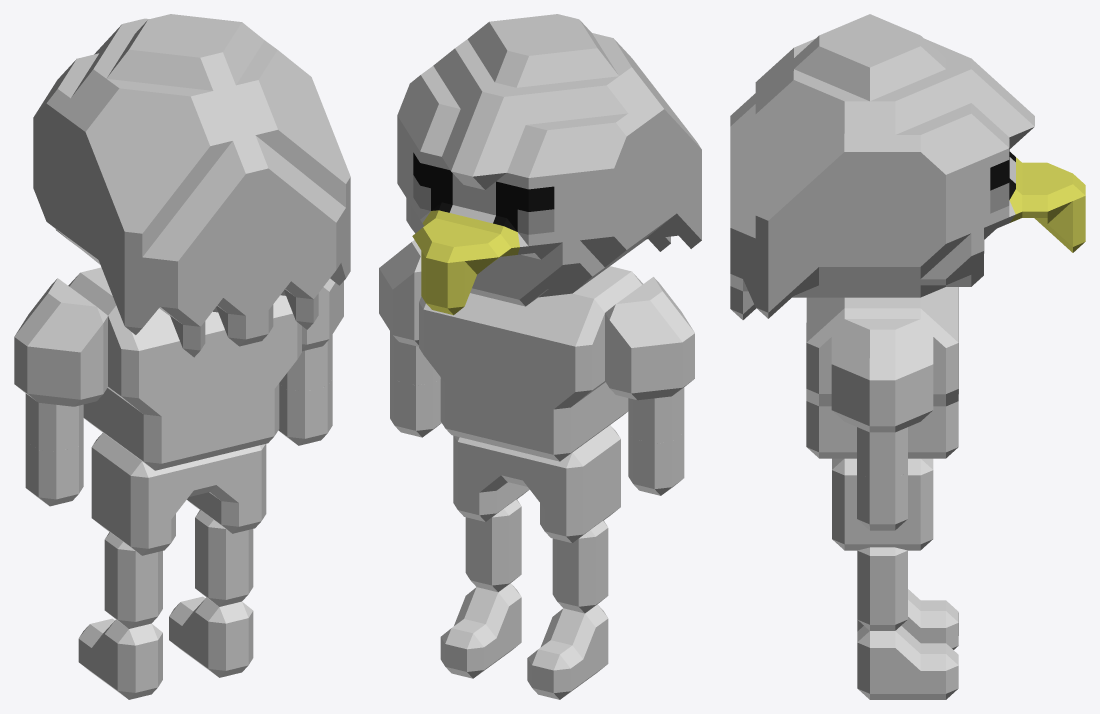
File: Eagle_res_fbx.fbx
3 renders of one model, left to right at view 1: azimuth 30°, elevation 25°; view 2: azimuth 150°, elevation 25°; view 3: azimuth 270°, elevation 25°, orthographic. The views are drawn at different scales.
Visible parts, largest first — view 1: itmyEagle0609, itmyEagle0609.012, itmyEagle0609.007, itmyEagle0609.014, itmyEagle0609.001, itmyEagle0609.002, itmyEagle0609.009, itmyEagle0609.006, itmyEagle0609.005, itmyEagle0609.008, itmyEagle0609.011, itmyEagle0609.010 (+3 smaller); view 2: itmyEagle0609, itmyEagle0609.012, itmyEagle0609.007, itmyEagle0609.014, itmyEagle0609.002, itmyEagle0609.001, itmyEagle0609.013, itmyEagle0609.009, itmyEagle0609.006, itmyEagle0609.005, itmyEagle0609.008, itmyEagle0609.011 (+3 smaller); view 3: itmyEagle0609, itmyEagle0609.012, itmyEagle0609.013, itmyEagle0609.001, itmyEagle0609.007, itmyEagle0609.005, itmyEagle0609.008, itmyEagle0609.010, itmyEagle0609.002, itmyEagle0609.003.
Boxes of the visible parts, x1=… form: itmyEagle0609: x1=33, y1=14, x2=350, y2=357; itmyEagle0609.012: x1=68, y1=267, x2=301, y2=470; itmyEagle0609.007: x1=91, y1=433, x2=266, y2=555; itmyEagle0609.014: x1=14, y1=278, x2=107, y2=406; itmyEagle0609.001: x1=169, y1=596, x2=253, y2=677; itmyEagle0609.002: x1=78, y1=618, x2=162, y2=699; itmyEagle0609.009: x1=25, y1=440, x2=83, y2=506; itmyEagle0609.006: x1=104, y1=532, x2=162, y2=598; itmyEagle0609.005: x1=195, y1=510, x2=253, y2=576; itmyEagle0609.008: x1=278, y1=379, x2=332, y2=445; itmyEagle0609.011: x1=25, y1=393, x2=83, y2=451; itmyEagle0609.010: x1=279, y1=334, x2=332, y2=391; itmyEagle0609: x1=397, y1=14, x2=701, y2=315; itmyEagle0609.012: x1=419, y1=266, x2=642, y2=461; itmyEagle0609.007: x1=453, y1=425, x2=620, y2=543; itmyEagle0609.014: x1=605, y1=277, x2=694, y2=400; itmyEagle0609.002: x1=527, y1=604, x2=608, y2=699; itmyEagle0609.001: x1=440, y1=583, x2=521, y2=678; itmyEagle0609.013: x1=379, y1=240, x2=421, y2=346; itmyEagle0609.009: x1=628, y1=431, x2=684, y2=495; itmyEagle0609.006: x1=552, y1=520, x2=608, y2=583; itmyEagle0609.005: x1=465, y1=499, x2=521, y2=562; itmyEagle0609.008: x1=390, y1=373, x2=441, y2=437; itmyEagle0609.011: x1=628, y1=387, x2=684, y2=443; itmyEagle0609: x1=730, y1=14, x2=1085, y2=319; itmyEagle0609.012: x1=806, y1=287, x2=958, y2=458; itmyEagle0609.013: x1=831, y1=319, x2=933, y2=432; itmyEagle0609.001: x1=857, y1=626, x2=958, y2=699; itmyEagle0609.007: x1=832, y1=458, x2=933, y2=550; itmyEagle0609.005: x1=857, y1=547, x2=907, y2=601; itmyEagle0609.008: x1=857, y1=473, x2=907, y2=530; itmyEagle0609.010: x1=857, y1=427, x2=907, y2=478; itmyEagle0609.002: x1=857, y1=589, x2=958, y2=649; itmyEagle0609.003: x1=857, y1=596, x2=907, y2=630.
Bounding box in the file's own units: 1.4 × 2.75 × 1.4.
